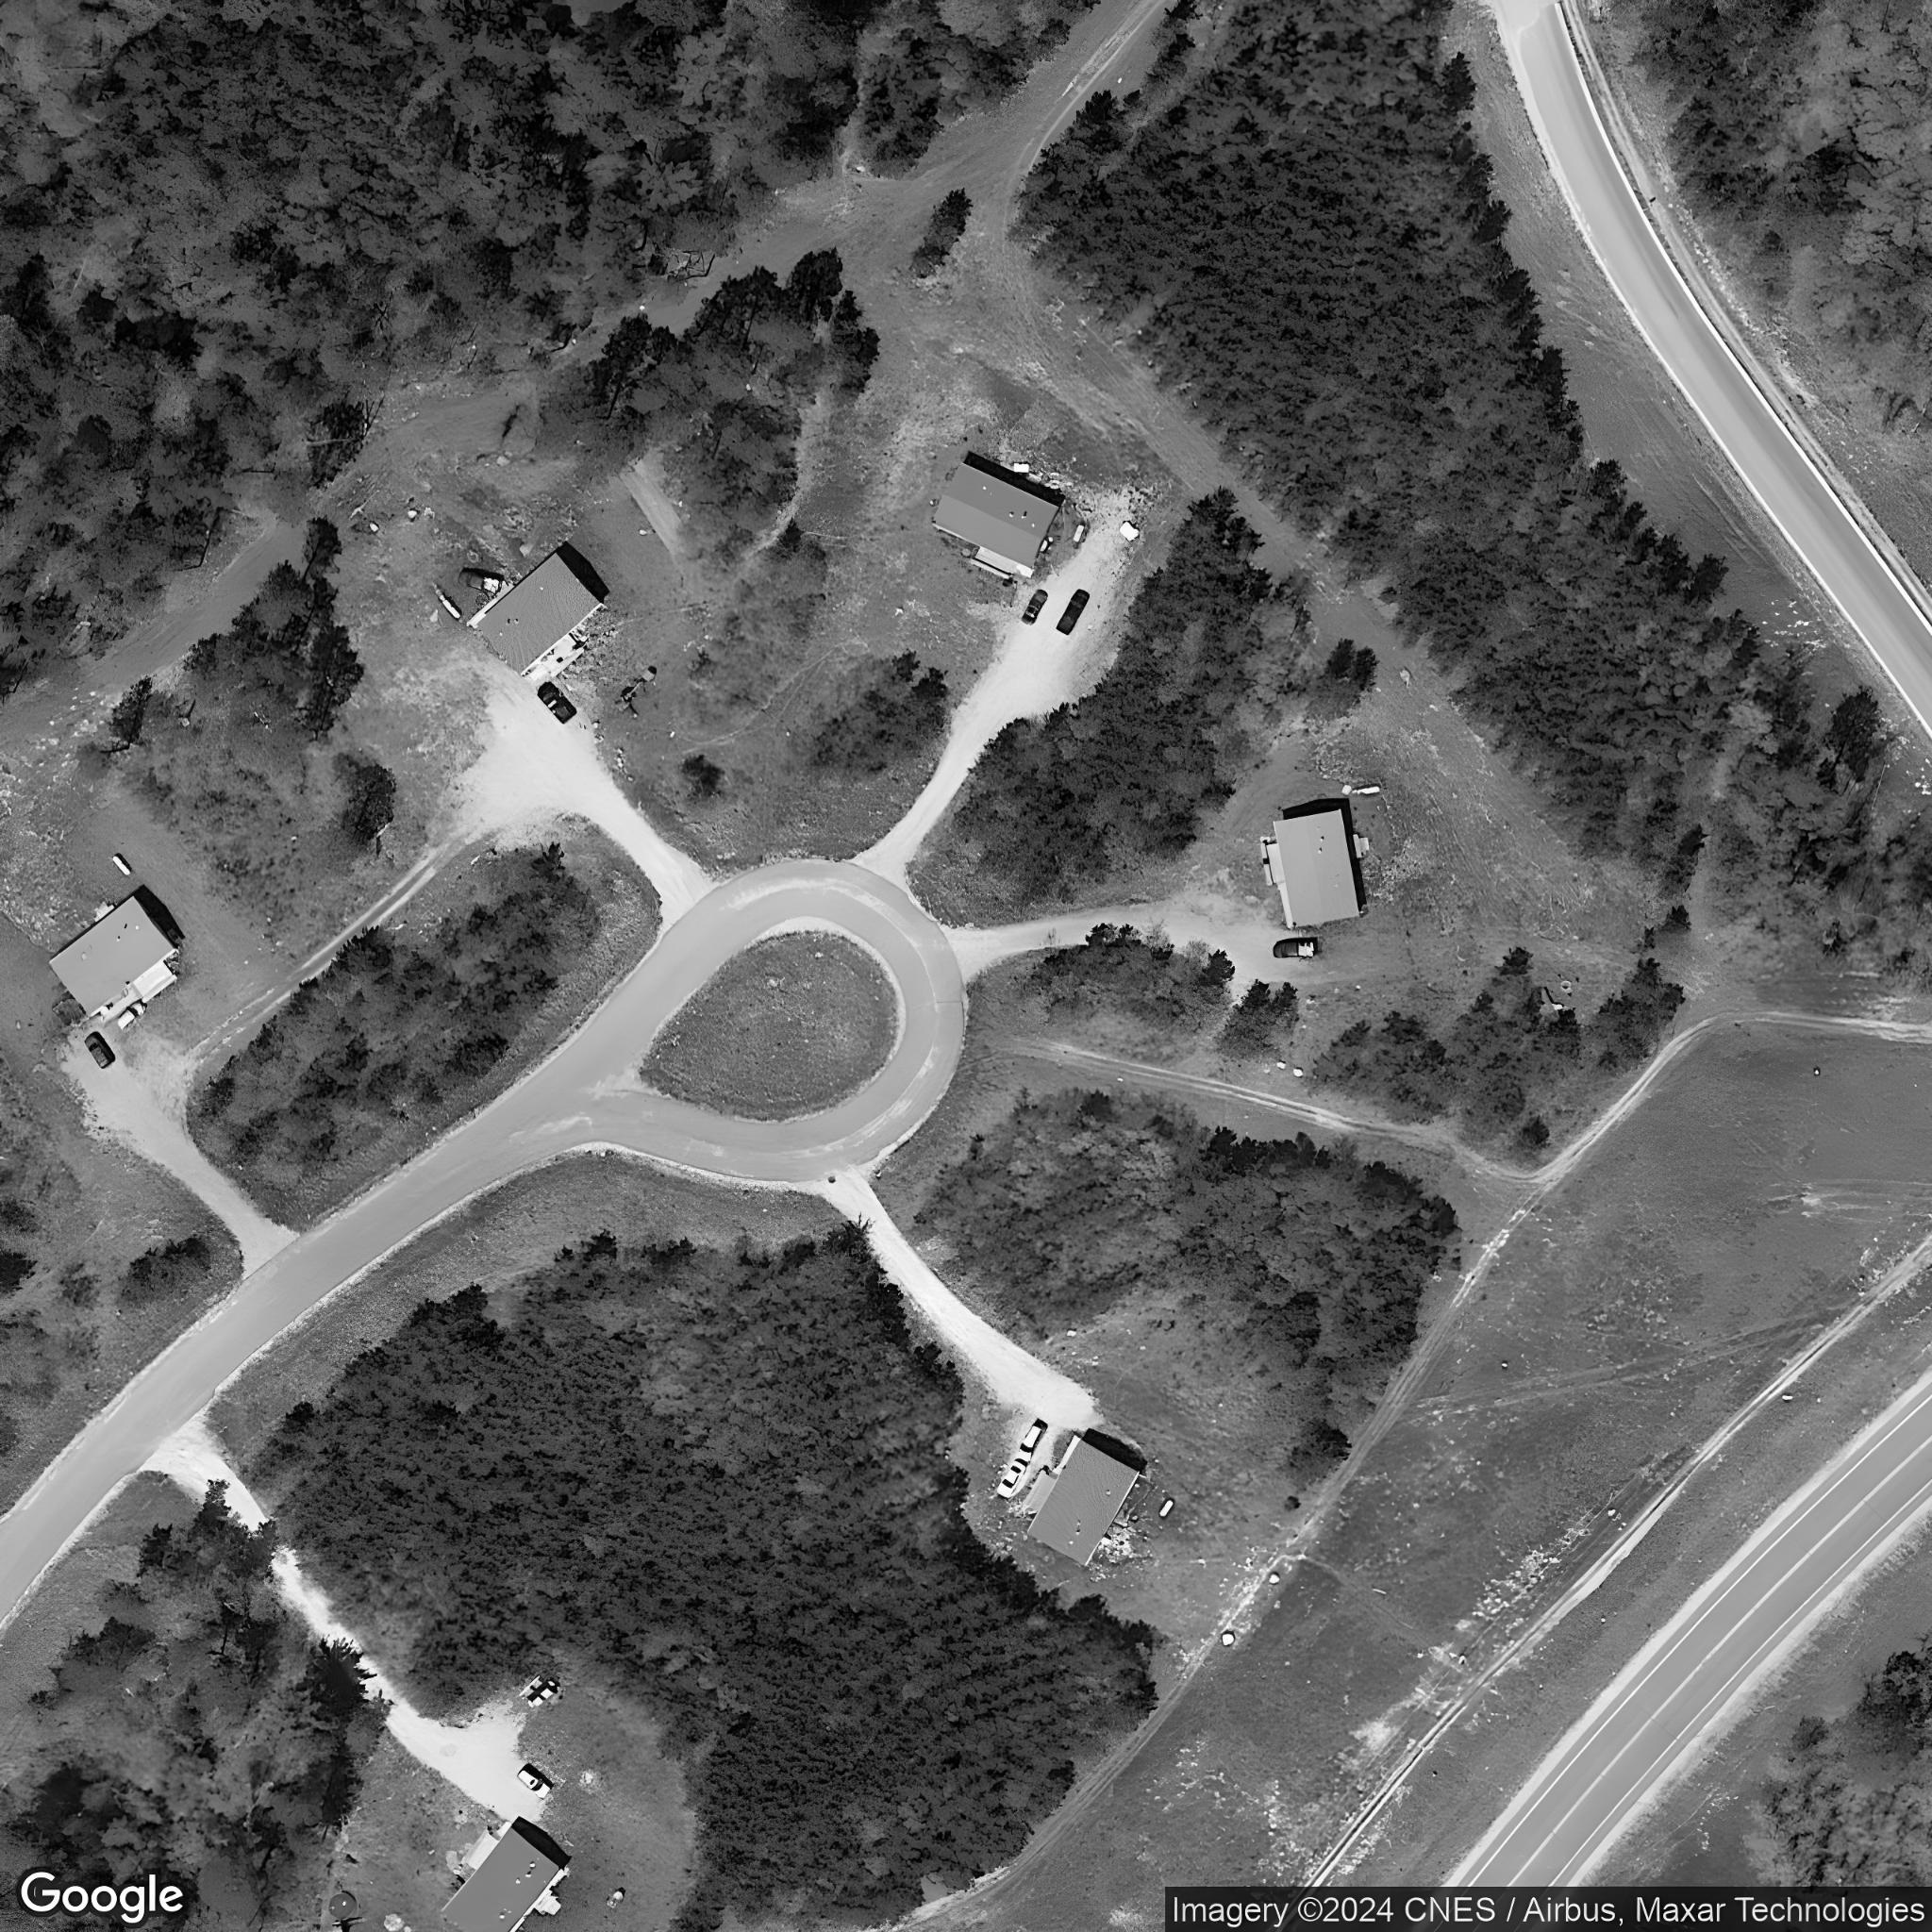House: (42, 892, 179, 1021), (474, 550, 605, 679), (1024, 1437, 1141, 1568), (929, 460, 1062, 570), (439, 1828, 563, 1932), (1270, 805, 1362, 931)
Propane: (435, 593, 467, 625), (602, 1884, 633, 1913), (108, 849, 136, 879), (1069, 518, 1092, 548), (1155, 1493, 1178, 1523), (1352, 778, 1387, 798)
